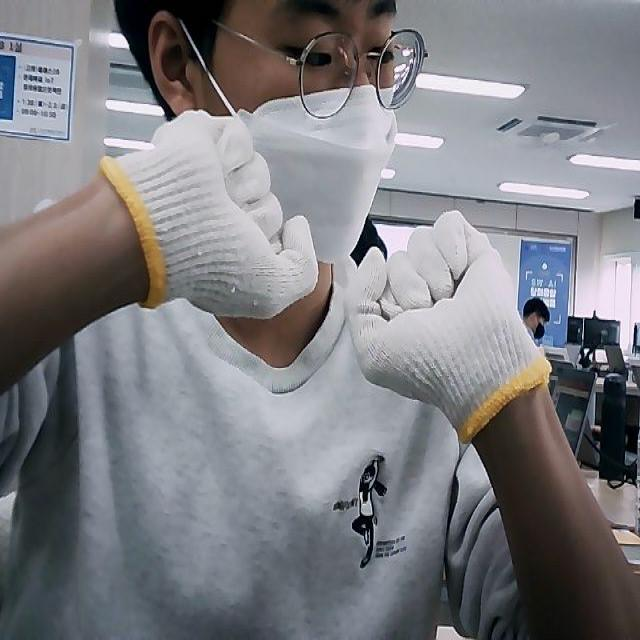gloves: (352, 210, 552, 437), (102, 110, 318, 320)
